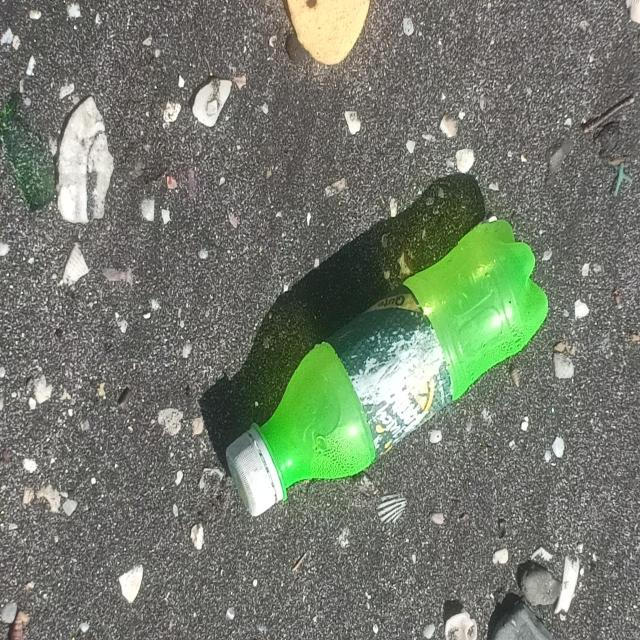plastic_waste: (227, 220, 552, 518)
